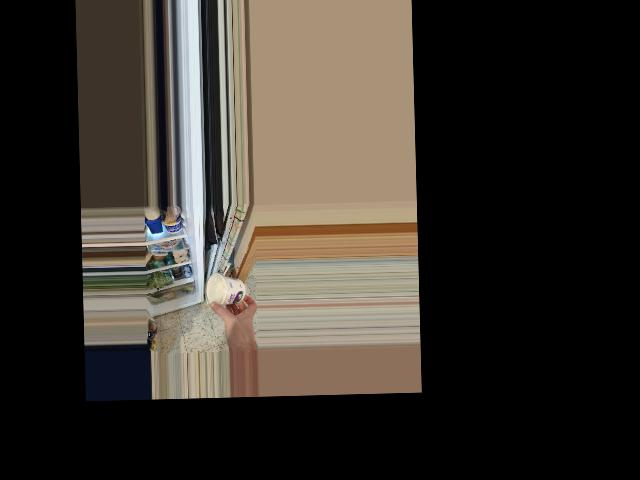cotage: (206, 274, 249, 308)
